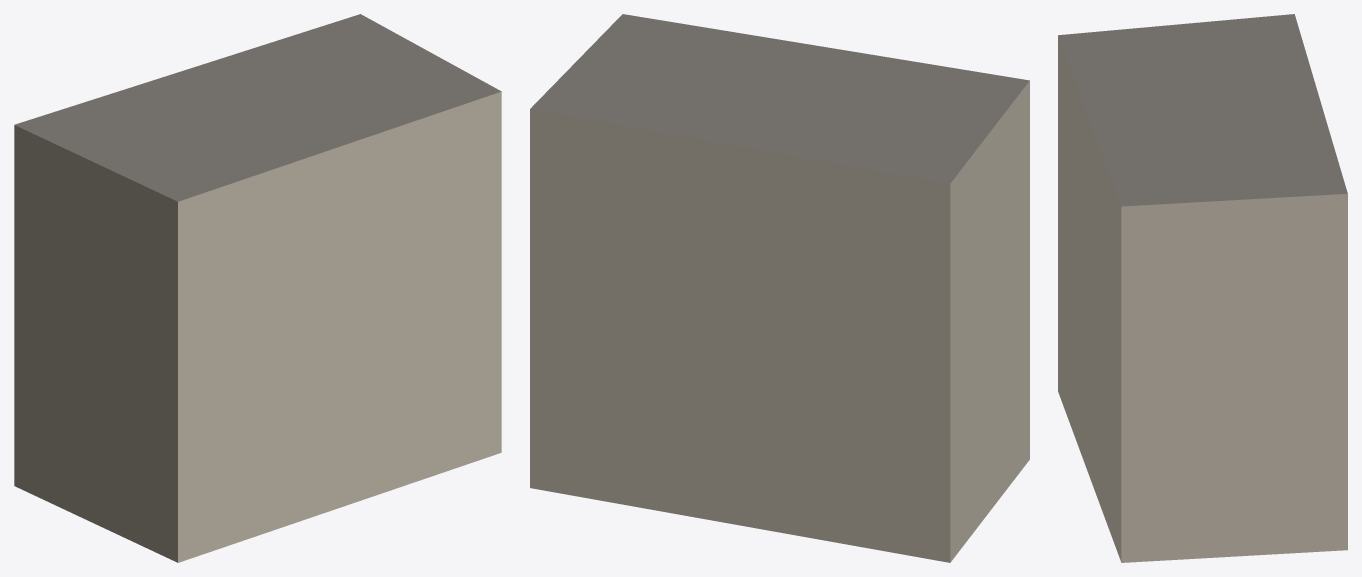
The picture shows the model from 3 angles, left to right: view 1: azimuth 30°, elevation 25°; view 2: azimuth 150°, elevation 25°; view 3: azimuth 270°, elevation 25°; orthographic projection. The views are drawn at different scales.
Visible parts, largest first — view 1: HP-w505664424; view 2: HP-w505664424; view 3: HP-w505664424.
Boxes of the visible parts, x1,y1,x2,y2 form: HP-w505664424: (14,14,501,562); HP-w505664424: (530,14,1029,562); HP-w505664424: (1058,14,1347,562).
Size of the model in its own units: 17.38 by 15 by 11.05.
